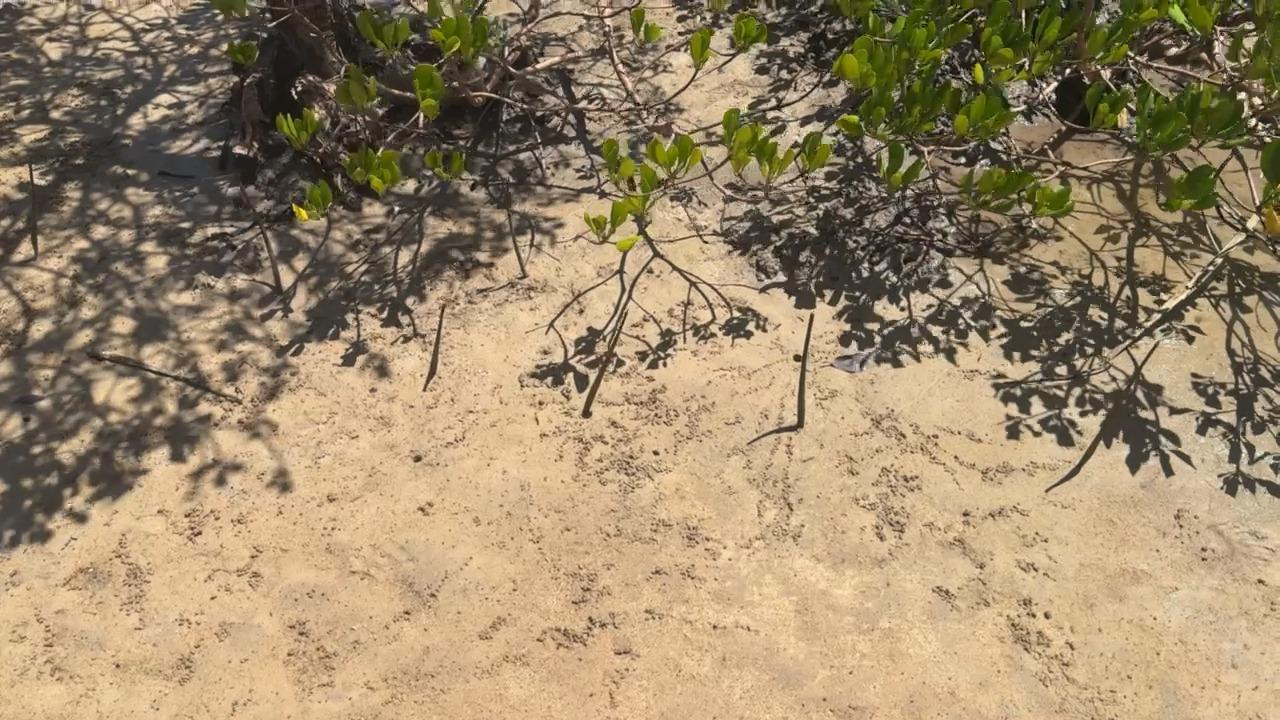Tree: (235, 173, 285, 297), (581, 310, 629, 415), (796, 313, 816, 429), (506, 179, 529, 279), (428, 306, 447, 371), (28, 161, 37, 237)
